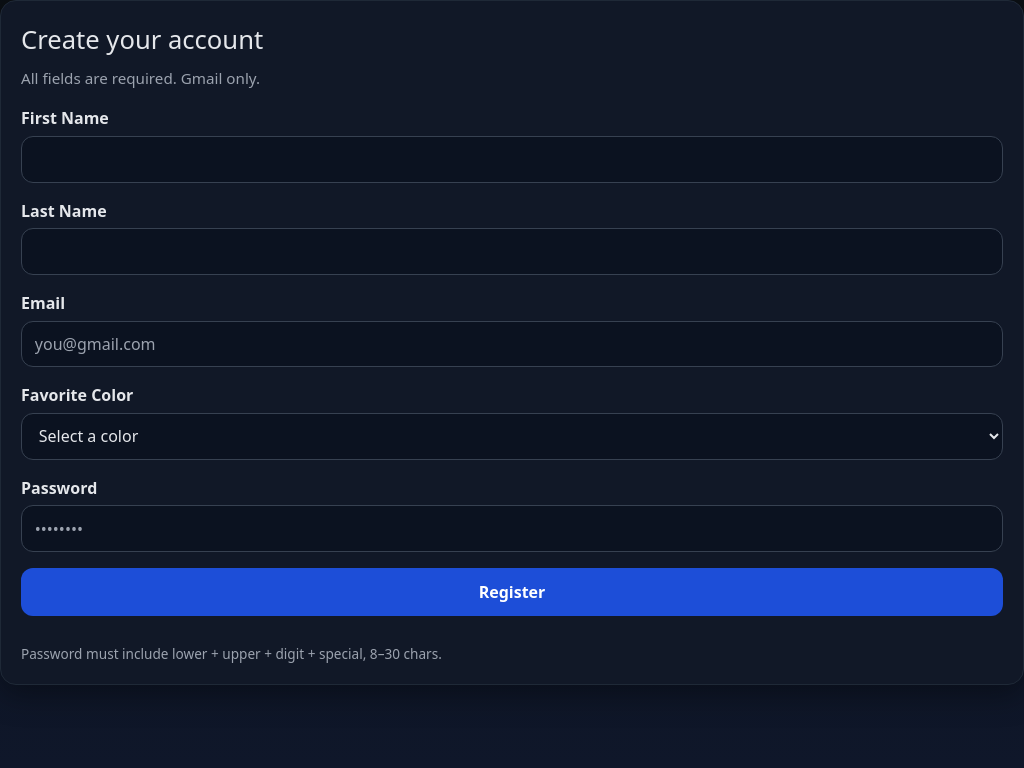
Test case: RegistrationForm › rejects weak passwords
In the field labelled "First Name": [512, 159] box left=21, top=136, right=1003, bottom=183, type "A"
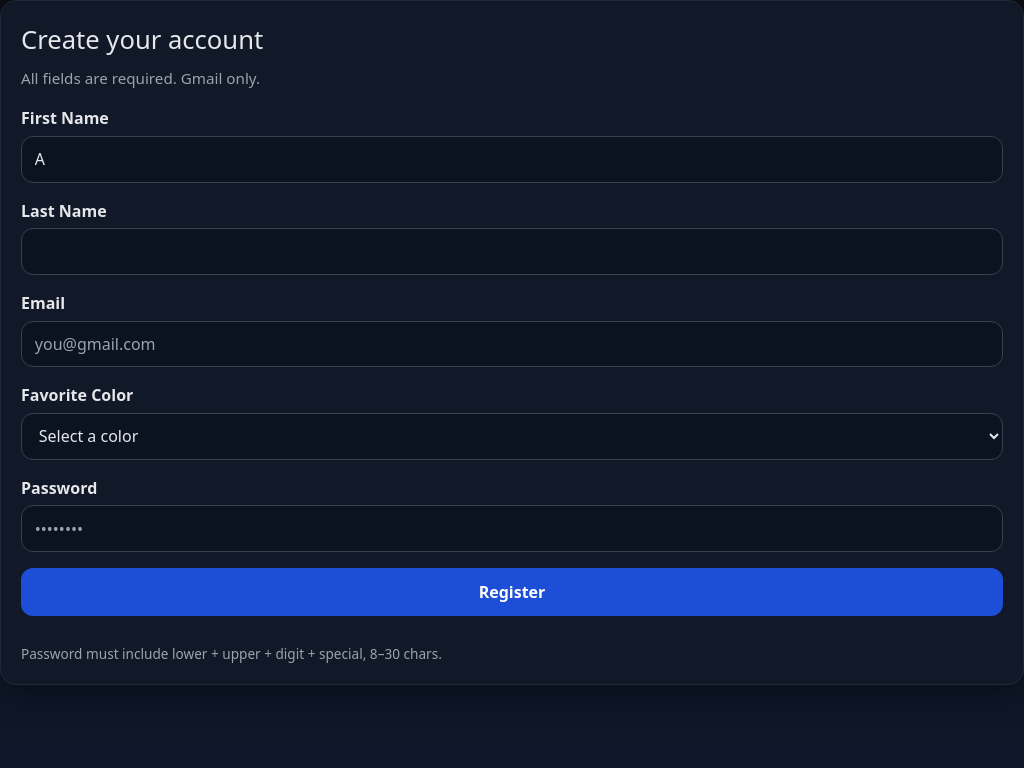
In the field labelled "Last Name": [512, 252] box left=21, top=228, right=1003, bottom=275, type "B"
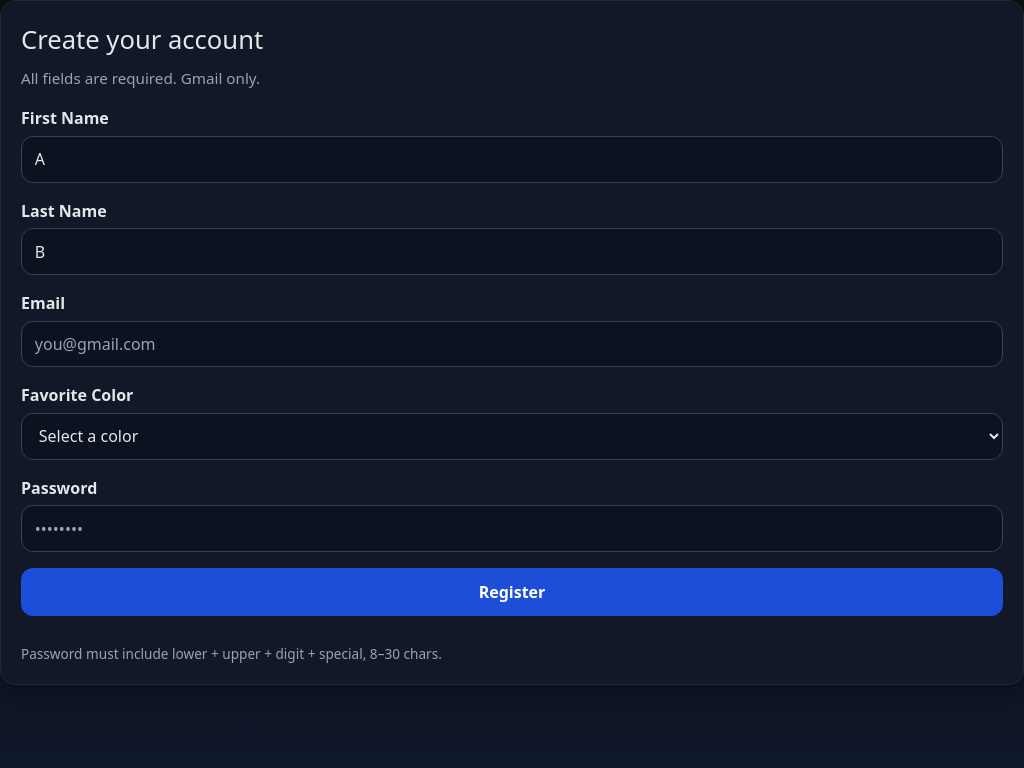
In the field labelled "Email": [512, 344] box left=21, top=320, right=1003, bottom=367, type "user@gmail.com"
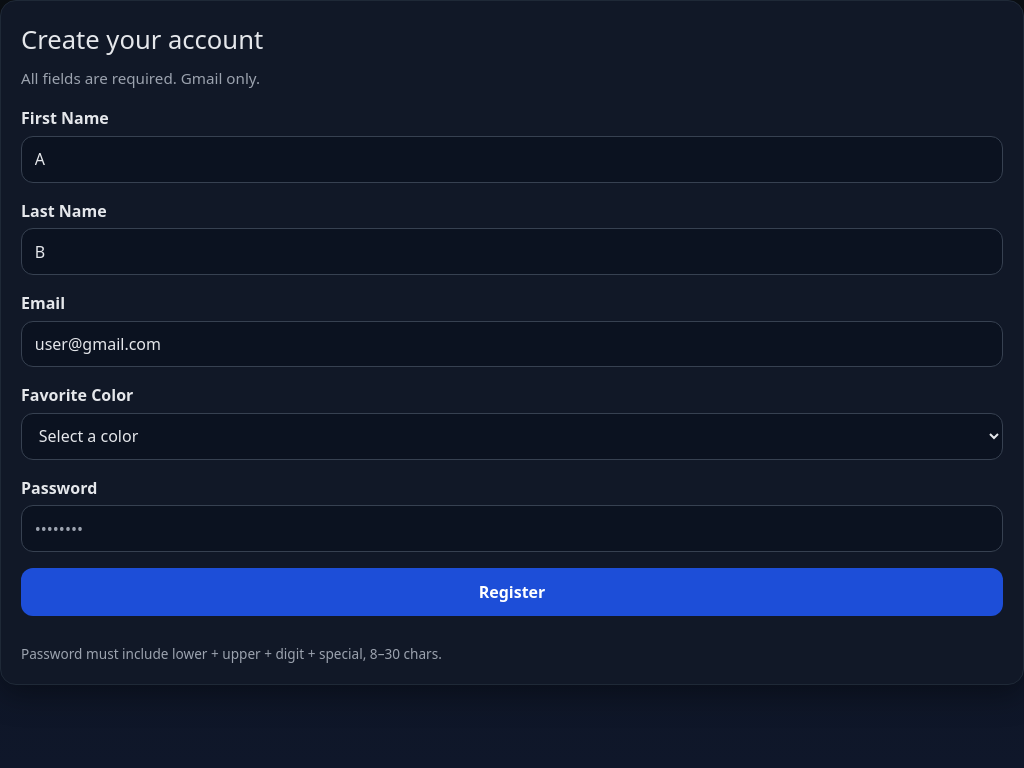
In the password field labelled "Password": [512, 529] box left=21, top=505, right=1003, bottom=552, type "weakpass"
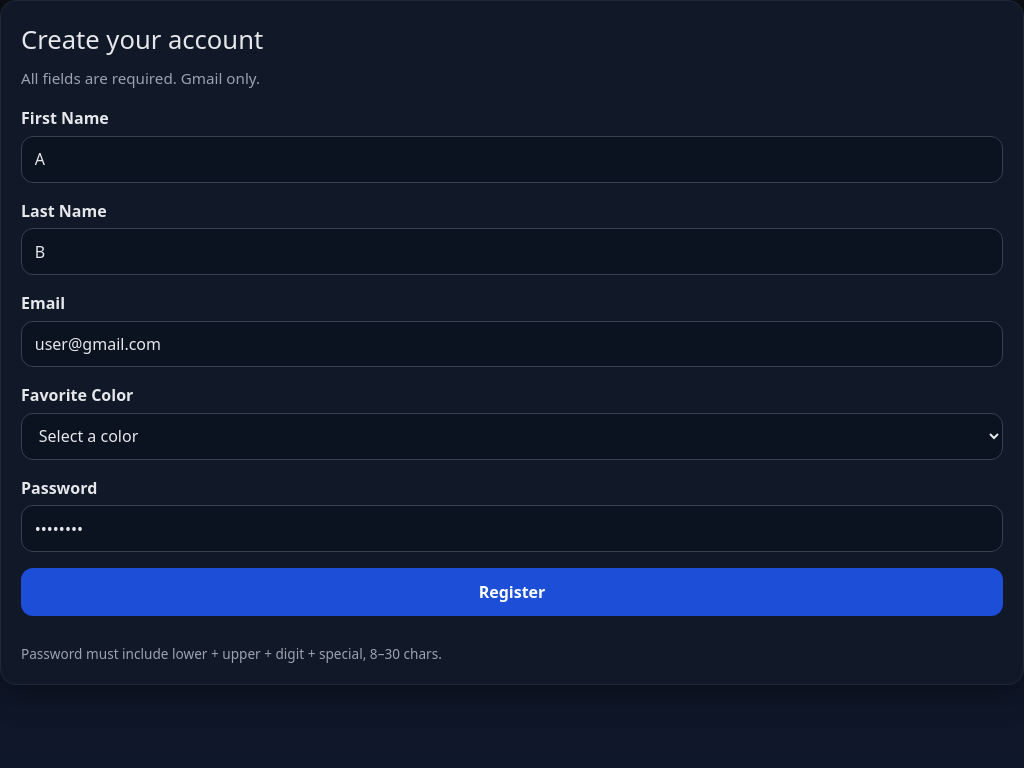
Click the button "Register": [512, 592] box left=21, top=568, right=1003, bottom=616
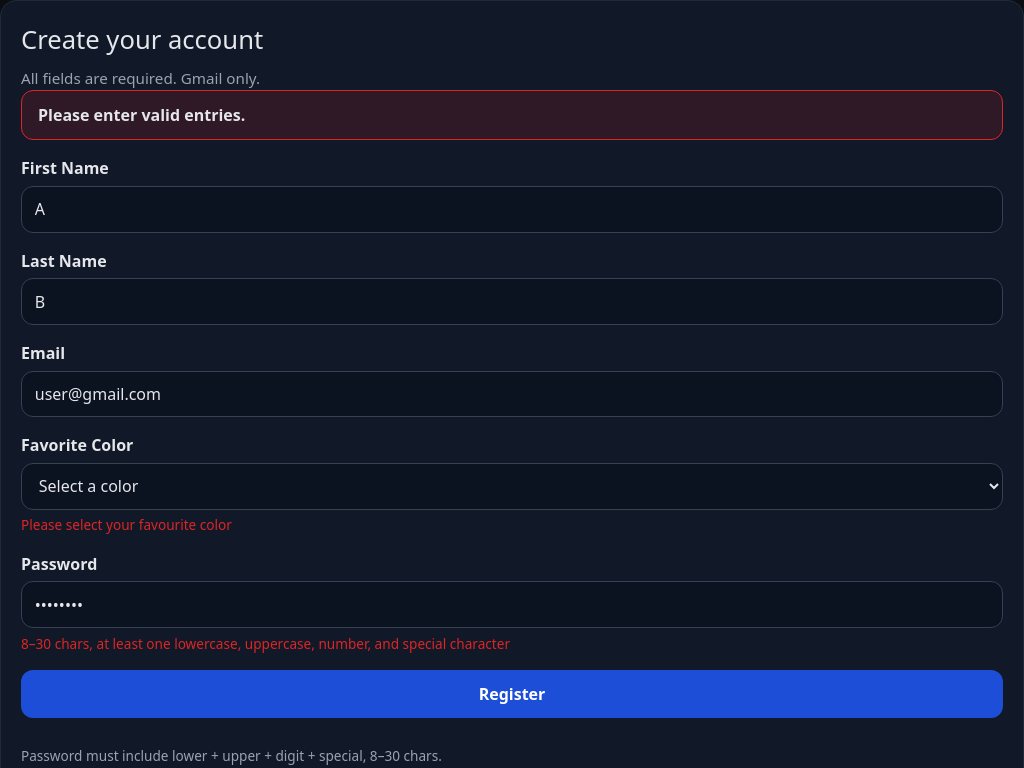
Expected: the text "8–30 chars, at least one lowercase, uppercase, number, and special character" is shown, left=21, top=634, right=510, bottom=653
